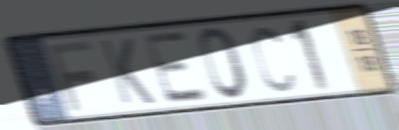0: (197, 25, 250, 102)
1: (287, 16, 334, 93)
C: (248, 24, 297, 95)
E: (139, 28, 213, 107)
F: (45, 38, 97, 114)
K: (97, 37, 159, 107)
